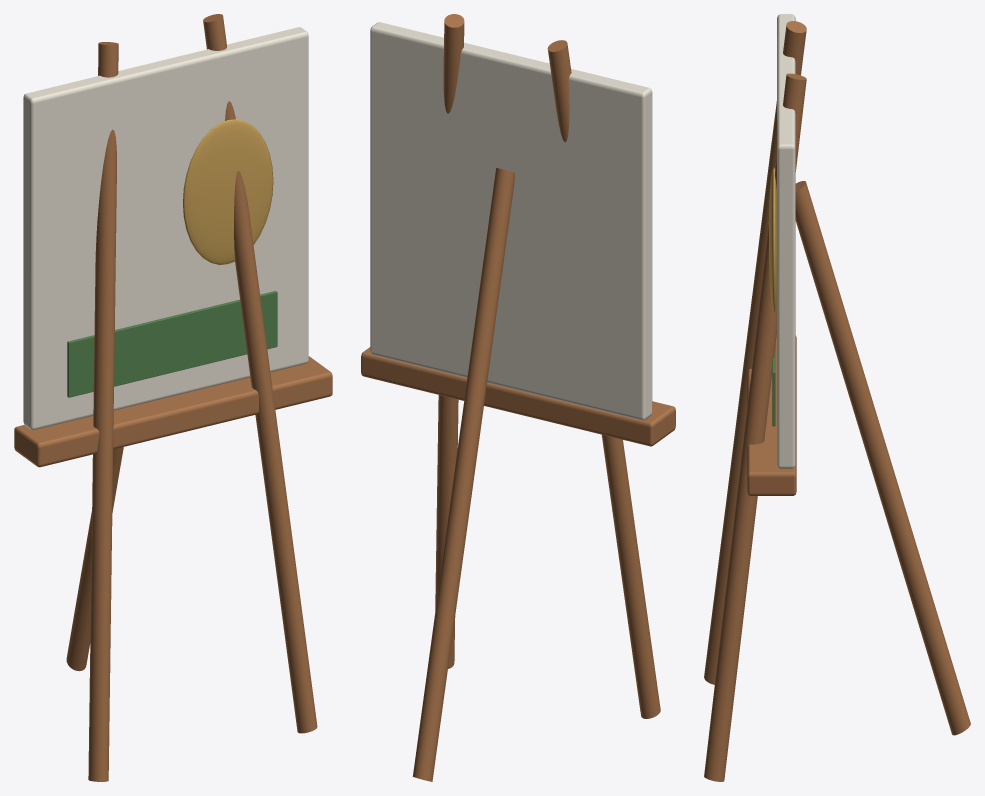
File: wp-chevalet-de-peintre.glb
3 renders of one model, left to right at view 1: azimuth 30°, elevation 25°; view 2: azimuth 150°, elevation 25°; view 3: azimuth 270°, elevation 25°, orthographic. The views are drawn at different scales.
Parts seen in each view (by area): view 1: wp-chevalet-de-peintre; view 2: wp-chevalet-de-peintre; view 3: wp-chevalet-de-peintre.
Boxes of the visible parts, bbox=[...] form: wp-chevalet-de-peintre: bbox=[14, 14, 332, 781]; wp-chevalet-de-peintre: bbox=[361, 14, 675, 781]; wp-chevalet-de-peintre: bbox=[704, 14, 970, 781].
Size of the model in its own units: 0.75 by 1.7 by 0.5998.
